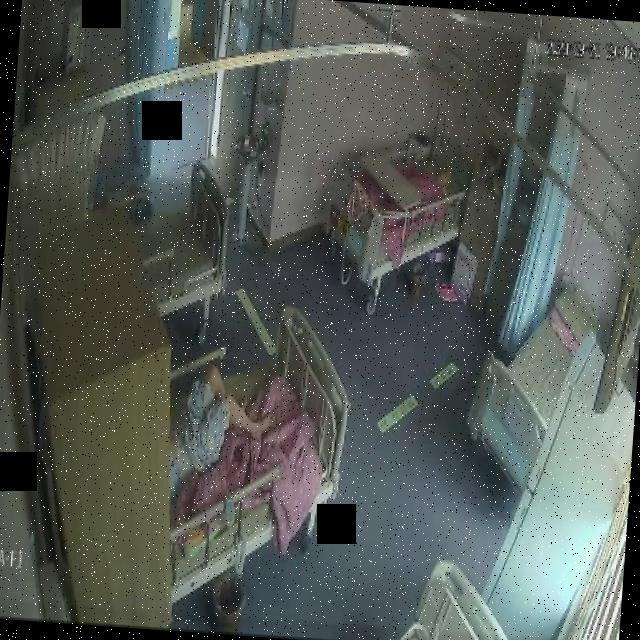bed: (156, 304, 350, 582), (462, 270, 594, 470), (318, 118, 472, 279), (130, 154, 236, 316)
lie: (163, 360, 280, 493)
patient: (162, 357, 280, 494), (422, 155, 455, 195)
